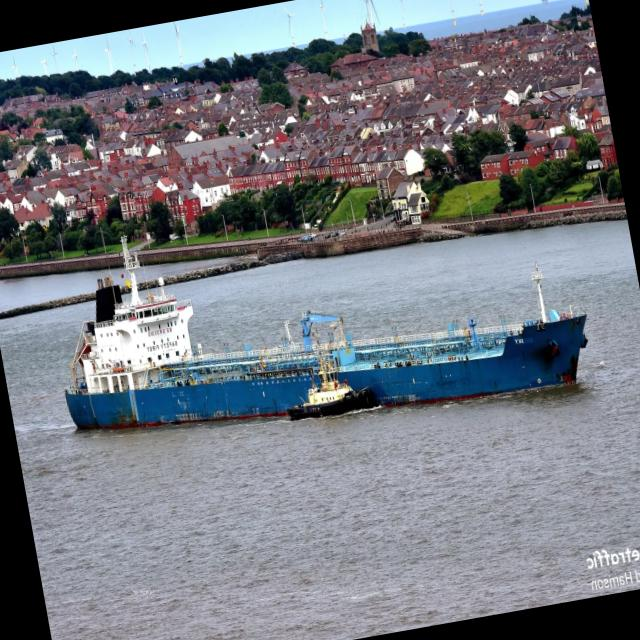Tanker: (64, 238, 587, 428)
Tug: (288, 357, 378, 419)
